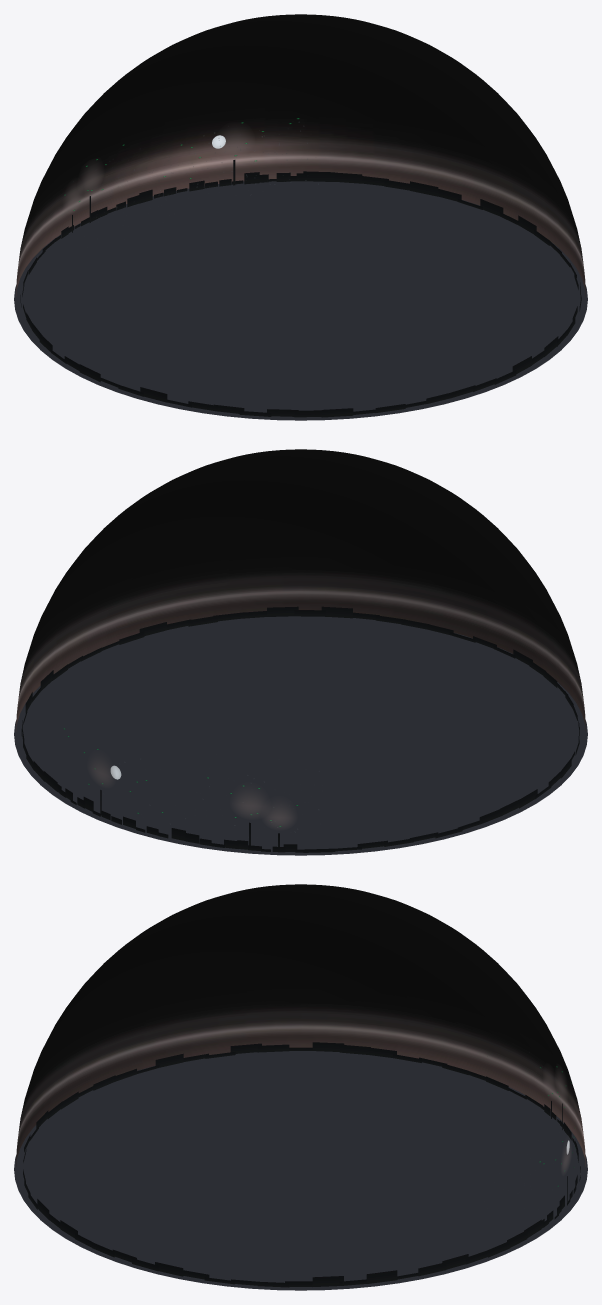
The model's file is gases2.glb.
3 renders of one model, top to bottom at view 1: azimuth 30°, elevation 25°; view 2: azimuth 150°, elevation 25°; view 3: azimuth 270°, elevation 25°, orthographic.
Visible parts, largest first — view 1: Suelo_Gases2, Domo_Atmosfera_Gases2, Silueta_Ciudad_y_Chimeneas2, Pluma_Humo2_03; view 2: Suelo_Gases2, Domo_Atmosfera_Gases2, Silueta_Ciudad_y_Chimeneas2, Pluma_Humo2_02, Pluma_Humo2_01; view 3: Suelo_Gases2, Domo_Atmosfera_Gases2, Silueta_Ciudad_y_Chimeneas2.
Part boxes in pixels (x1,y1,x2,y2): Suelo_Gases2: (14, 181, 587, 420); Domo_Atmosfera_Gases2: (16, 14, 585, 296); Silueta_Ciudad_y_Chimeneas2: (20, 160, 581, 417); Pluma_Humo2_03: (219, 128, 251, 155); Suelo_Gases2: (14, 616, 587, 855); Domo_Atmosfera_Gases2: (16, 449, 585, 731); Silueta_Ciudad_y_Chimeneas2: (21, 606, 579, 852); Pluma_Humo2_02: (233, 789, 267, 817); Pluma_Humo2_01: (264, 802, 294, 828); Suelo_Gases2: (14, 1051, 587, 1290); Domo_Atmosfera_Gases2: (16, 884, 585, 1166); Silueta_Ciudad_y_Chimeneas2: (23, 1042, 580, 1287).
Size of the model in its own units: 121 by 60.05 by 121.
7 materials, 7 textured.
